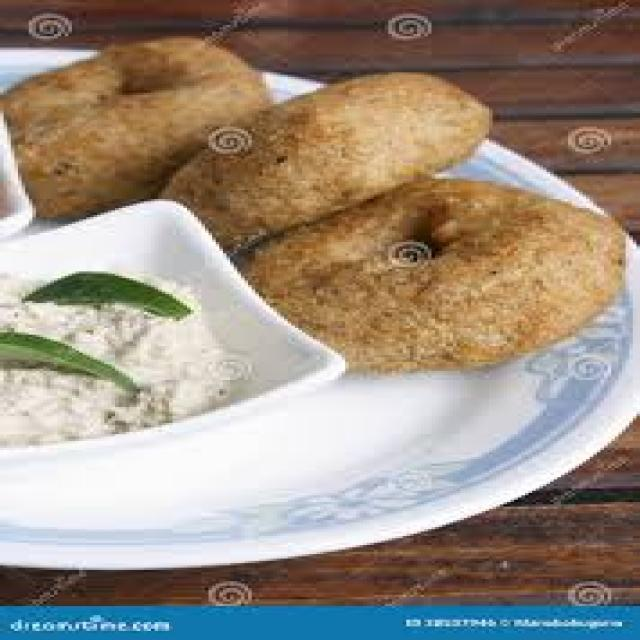MEDU VADA: (244, 179, 622, 369), (158, 75, 485, 249), (0, 36, 270, 217)
